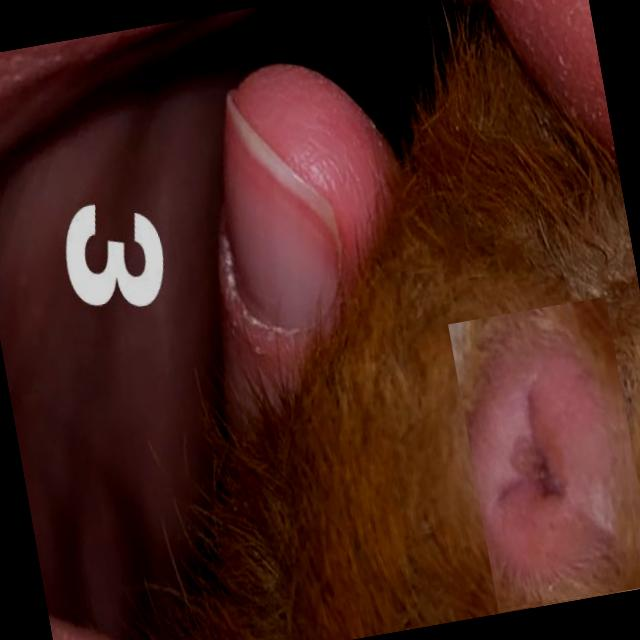fem: (447, 297, 640, 608)
